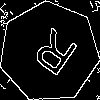R: (24, 27, 80, 86)
